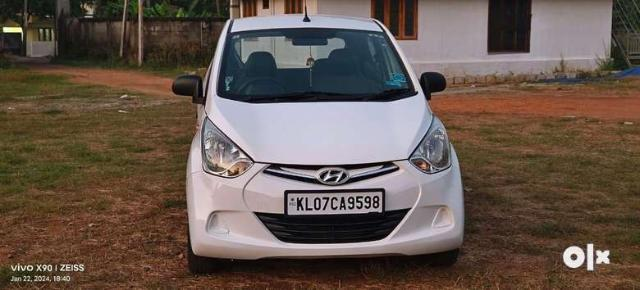Indian_Number_Plate: (284, 190, 384, 214)
